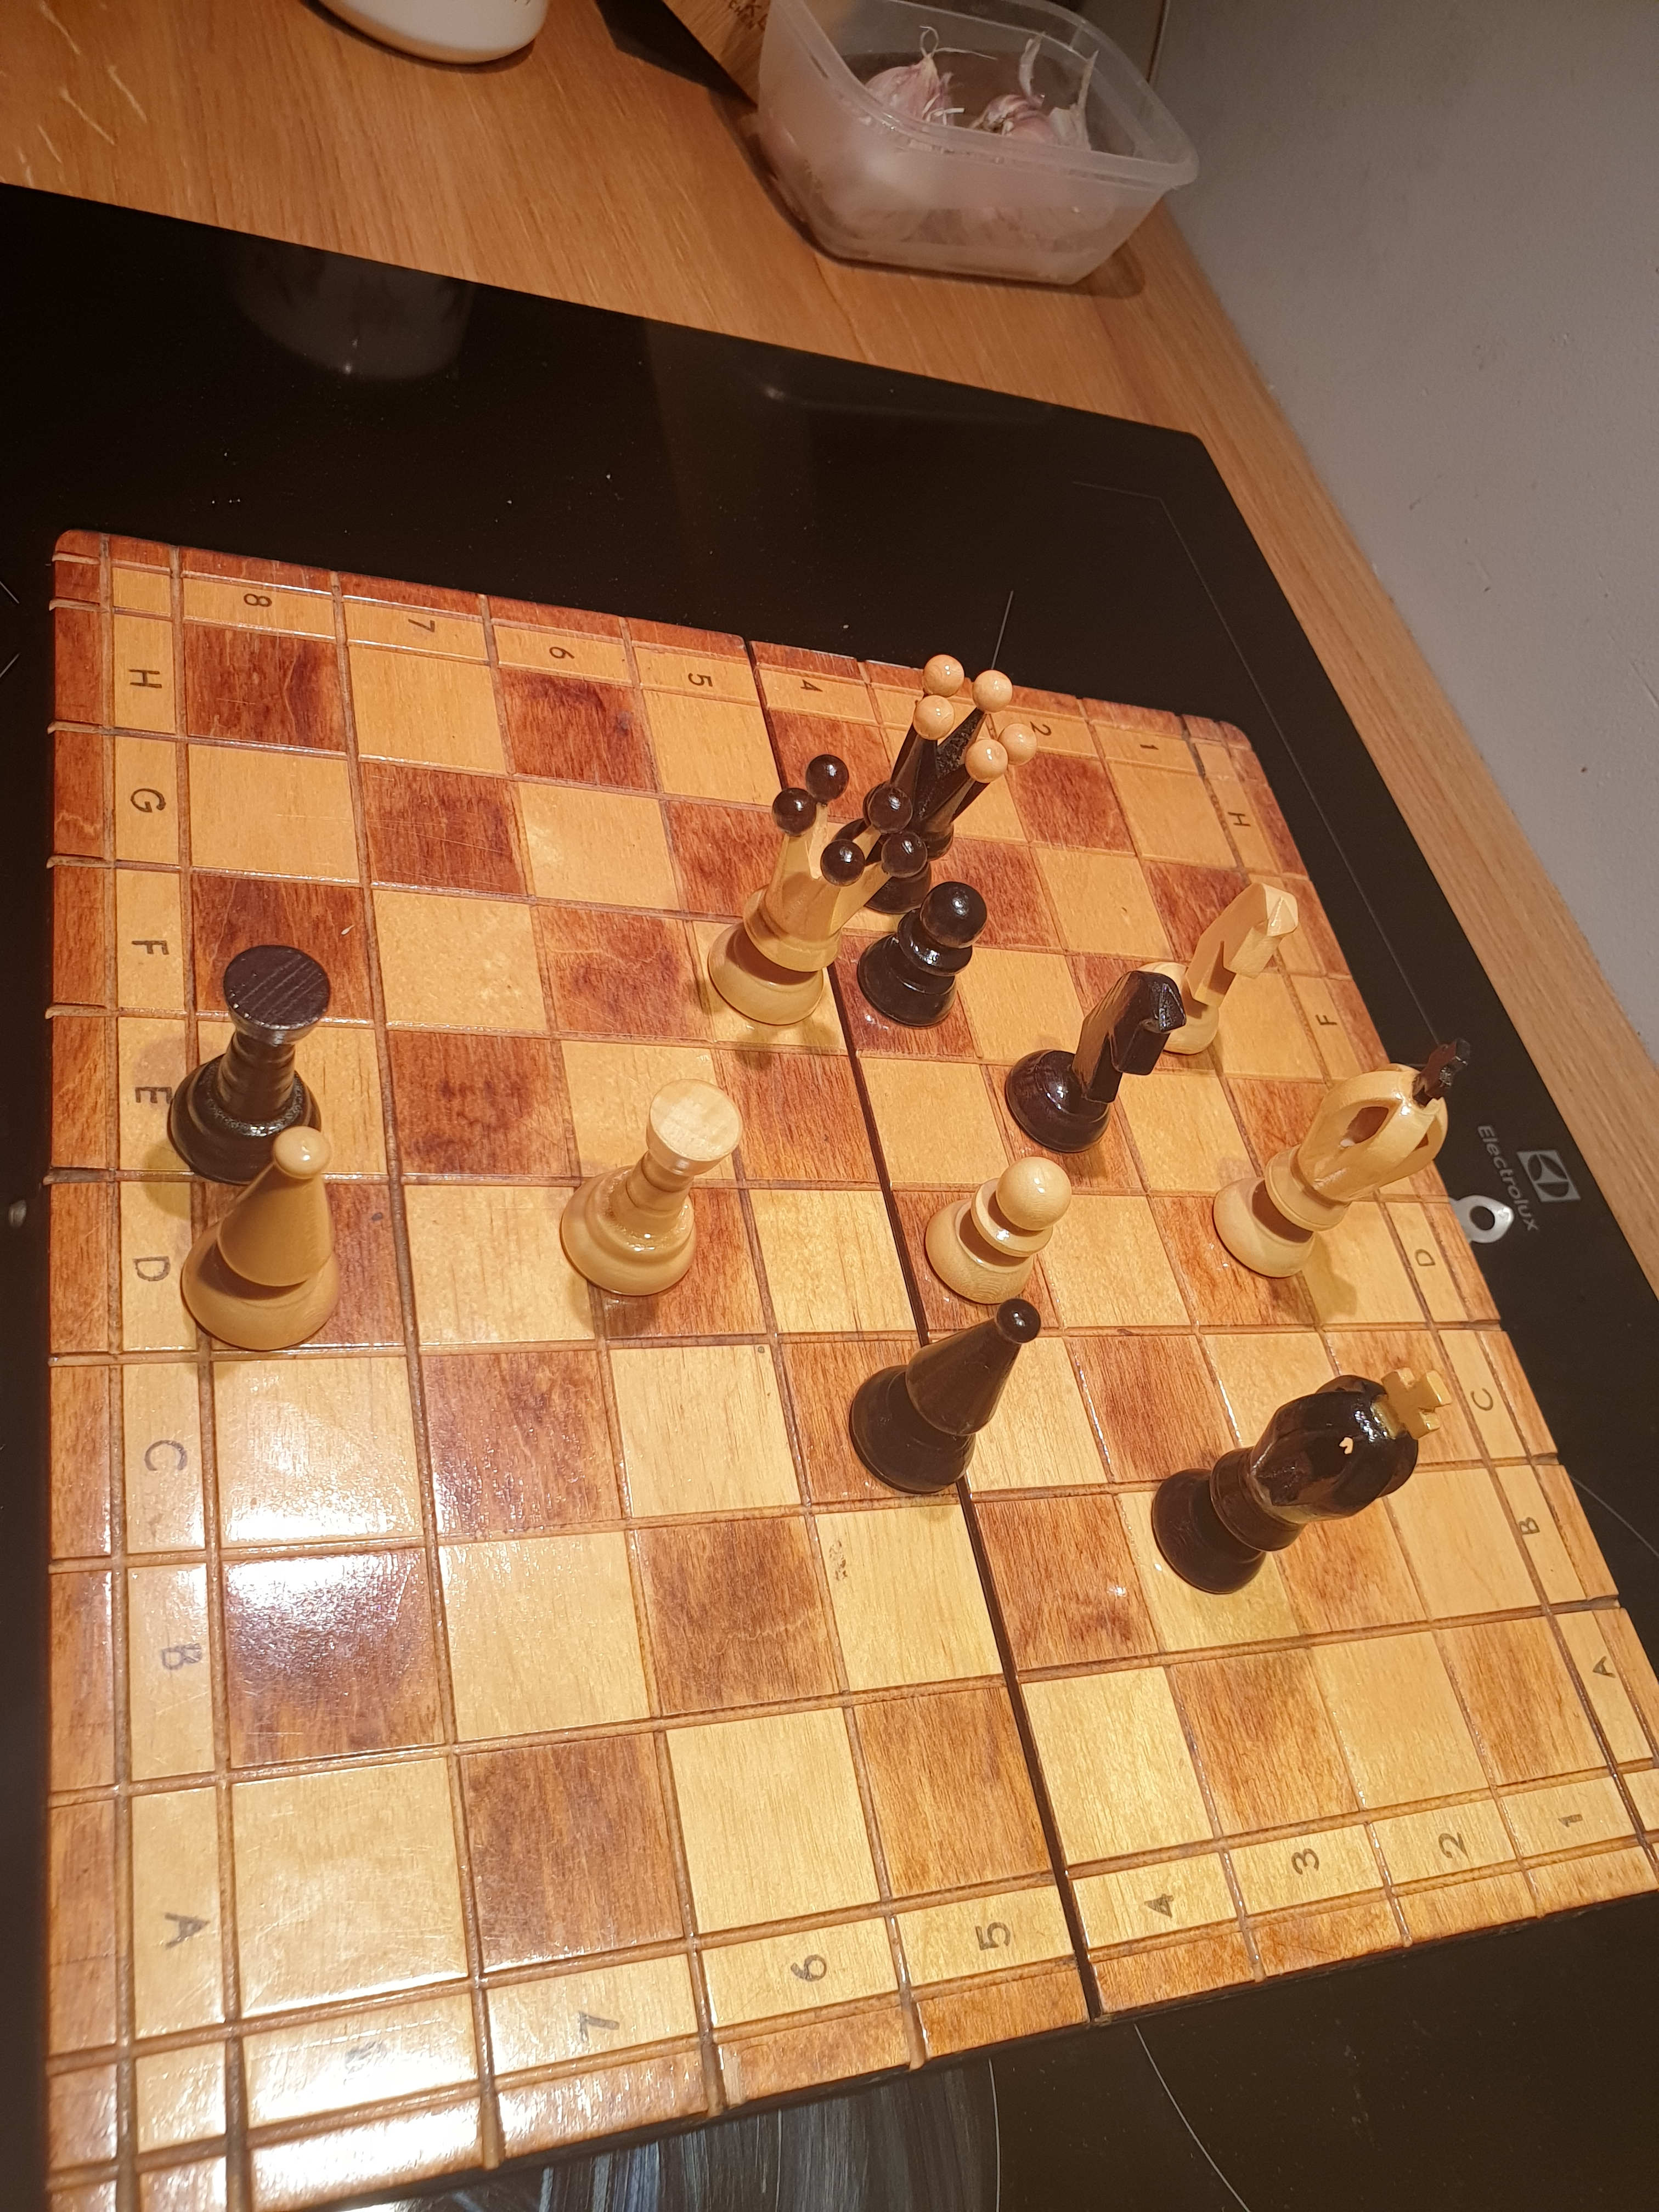bbishop: (828, 1292, 1056, 1519)
bking: (1138, 1353, 1459, 1606)
bknight: (1002, 961, 1194, 1162)
bpawn: (847, 873, 1002, 1052)
bqueen: (824, 644, 1054, 916)
brook: (157, 935, 345, 1197)
wbishop: (166, 1109, 362, 1362)
wking: (1206, 1026, 1490, 1292)
wknight: (1129, 878, 1307, 1057)
wpawn: (913, 1146, 1082, 1320)
wqueen: (695, 749, 932, 1040)
wrook: (551, 1075, 744, 1312)
